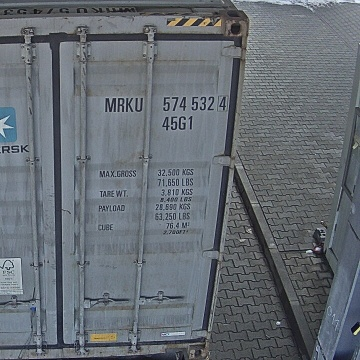serial_id: (105, 96, 227, 112)
